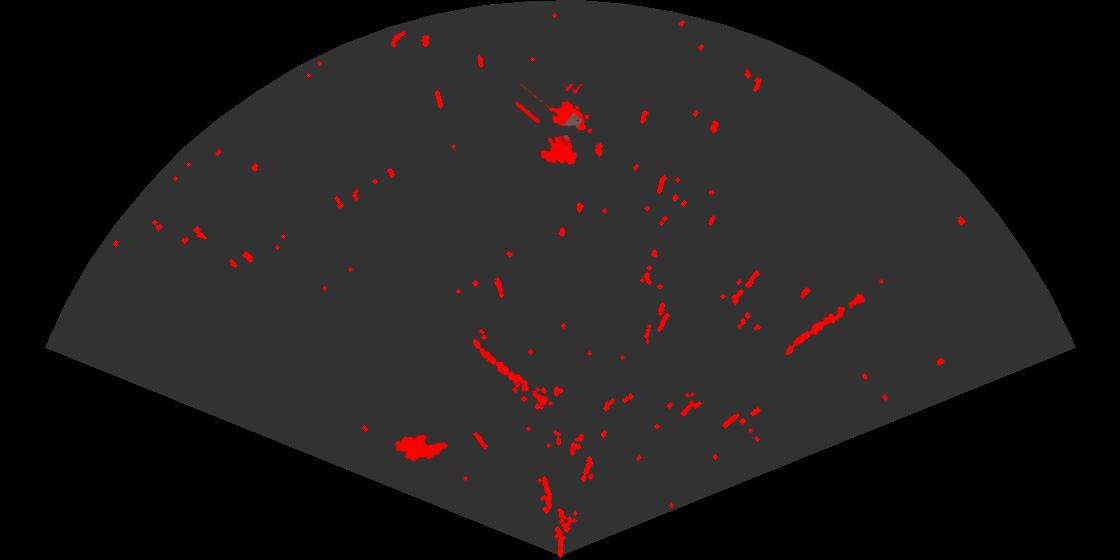AUV: (392, 433, 450, 463)
cage: (516, 84, 594, 166)
chain: (471, 337, 550, 407), (784, 292, 867, 357)
